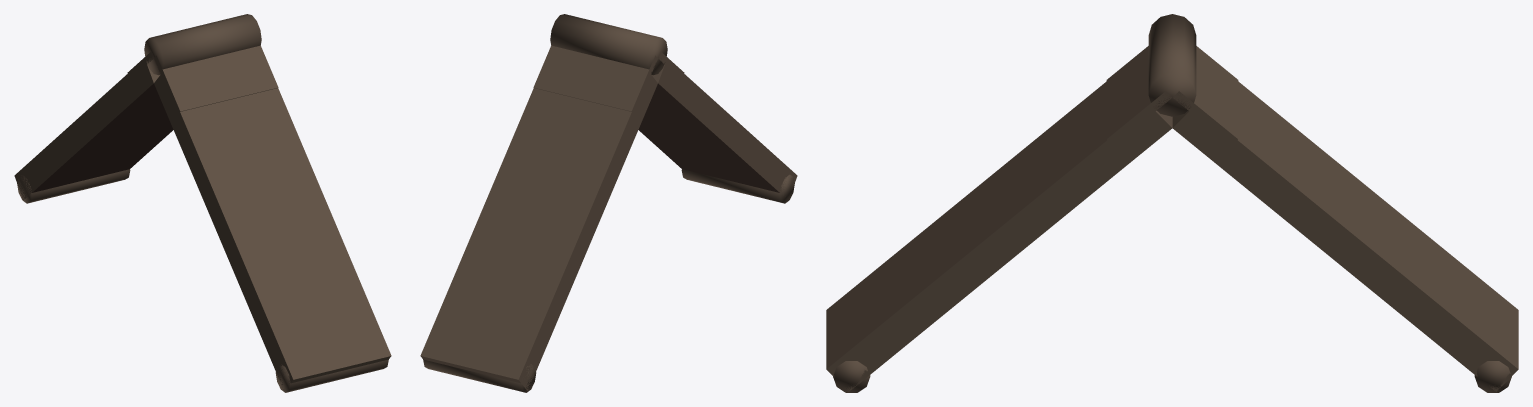
File: kit_timber_thatch_w4.glb
3 renders of one model, left to right at view 1: azimuth 30°, elevation 25°; view 2: azimuth 150°, elevation 25°; view 3: azimuth 270°, elevation 25°, orthographic. The views are drawn at different scales.
Parts seen in each view (by area): view 1: kit_timber_thatch_w4; view 2: kit_timber_thatch_w4; view 3: kit_timber_thatch_w4.
Part boxes in pixels (bbox=[...]): kit_timber_thatch_w4: bbox=[14, 14, 391, 392]; kit_timber_thatch_w4: bbox=[420, 14, 797, 392]; kit_timber_thatch_w4: bbox=[826, 14, 1518, 392].
Bounding box in the file's own units: 1 × 2.51 × 4.92.
